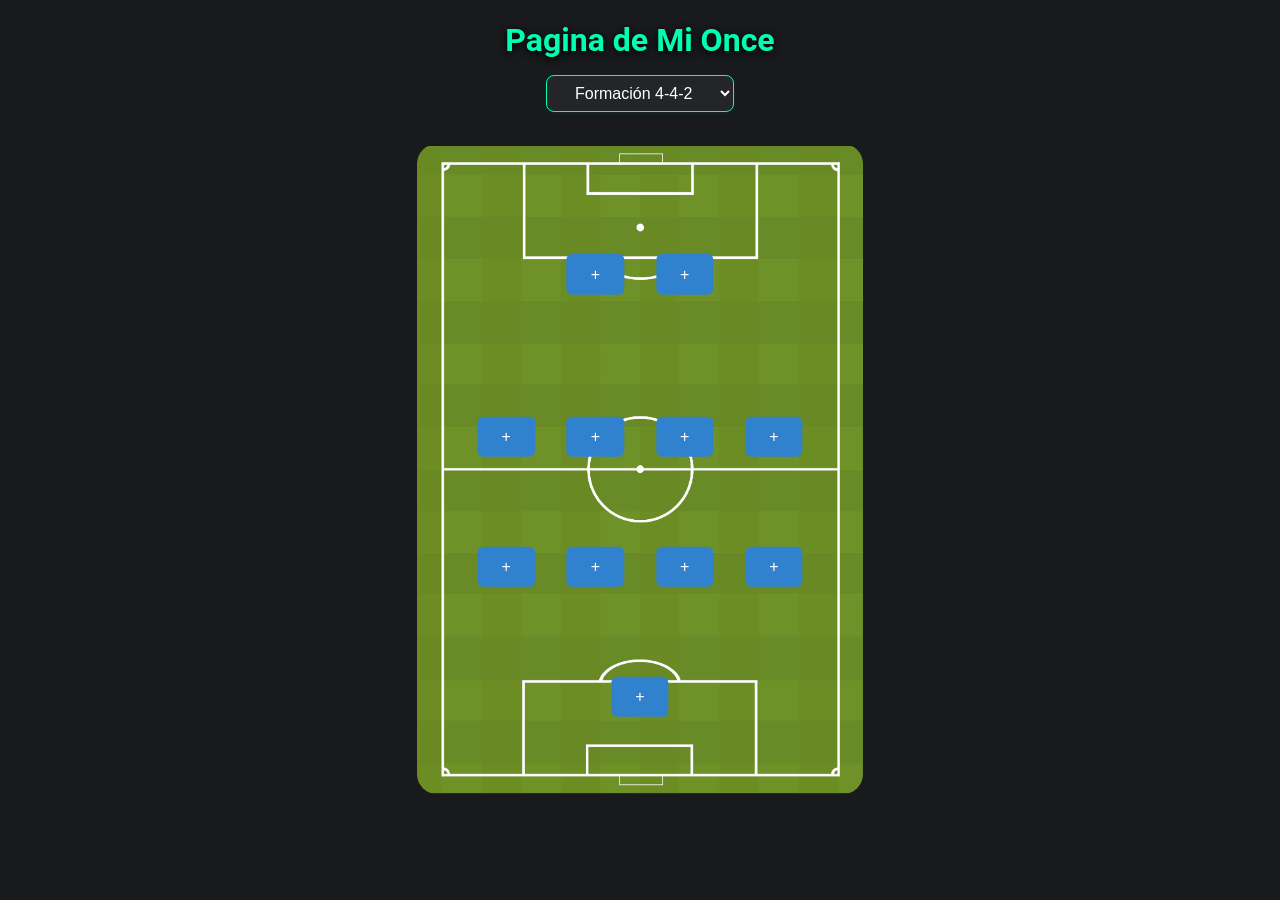
Scenario: en la pagina MiOnce › te muestra los jugadores disponibles al seleccionar una posicion
What coordinates should you click on to do the following:
click the 7th button "+"
I would click on:
 (506, 567)
Its box is [478,547,535,587].
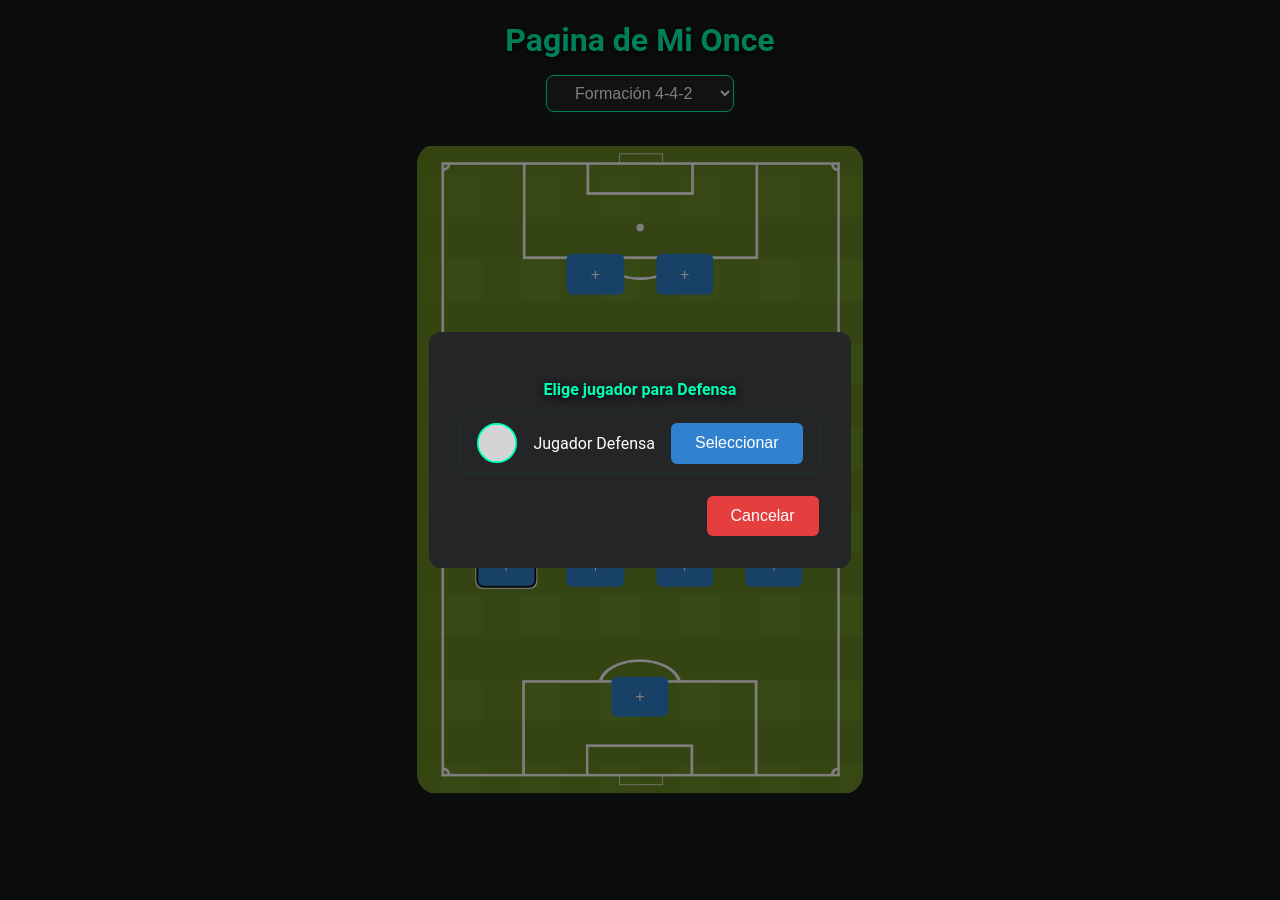
Expected: the heading "Elige jugador para Defensa" is shown, [544,380,736,399]
Expected: the text "Jugador Defensa" is shown, [533,434,655,453]
